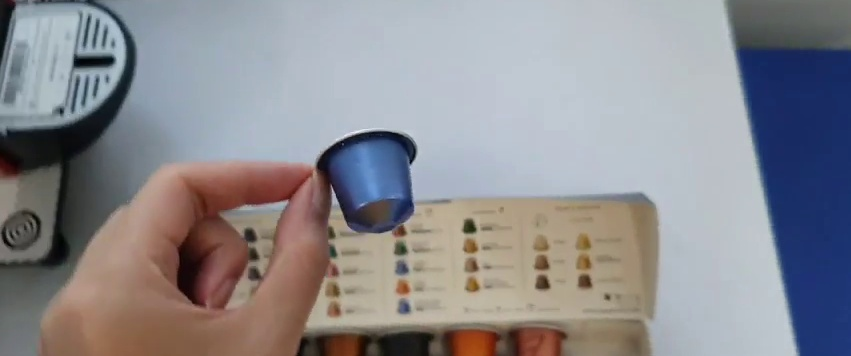capsule_7: (314, 126, 419, 233)
